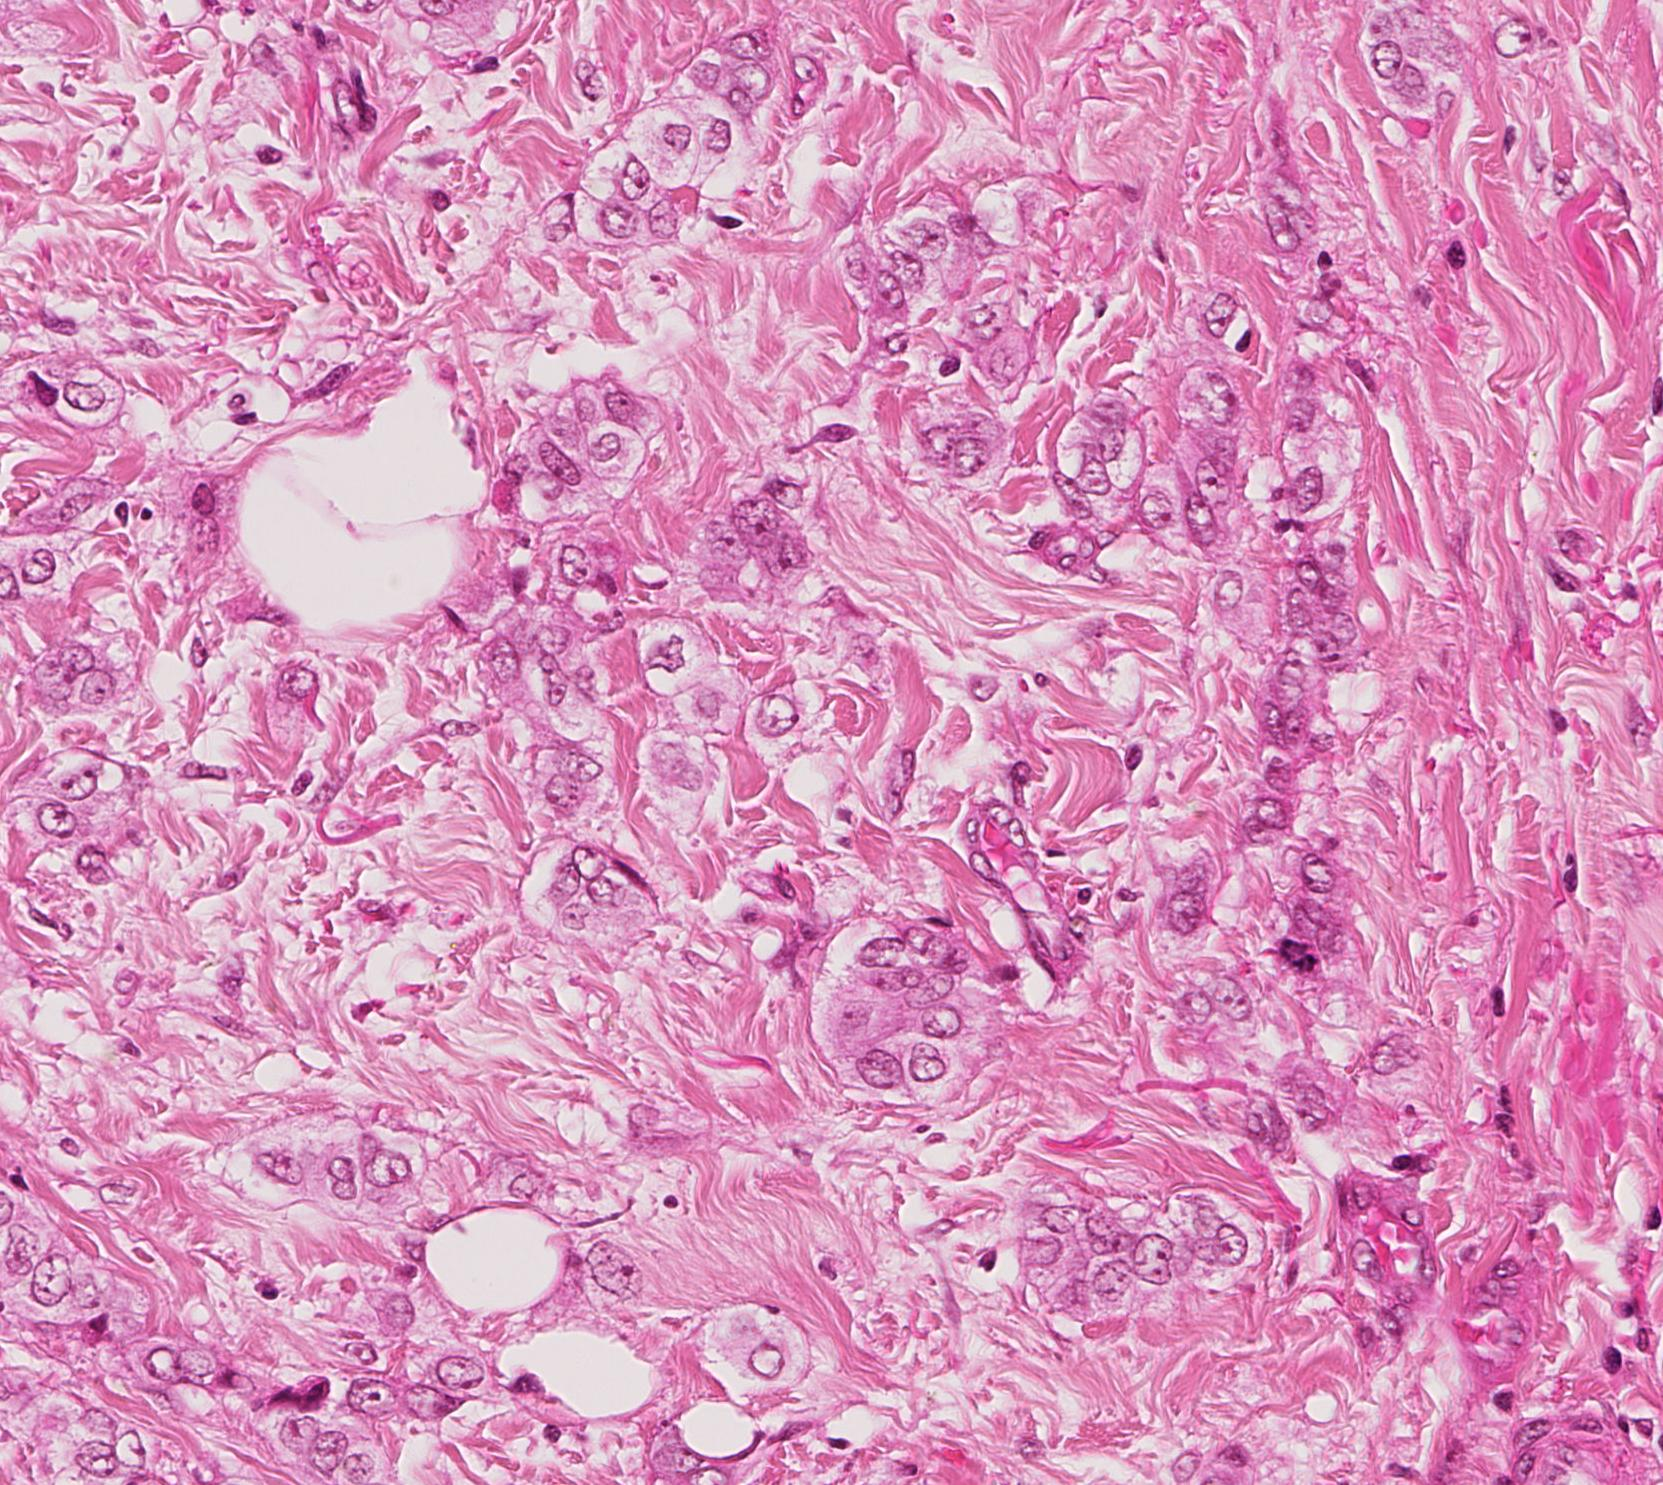mitosis: (1267, 926, 1328, 986)
